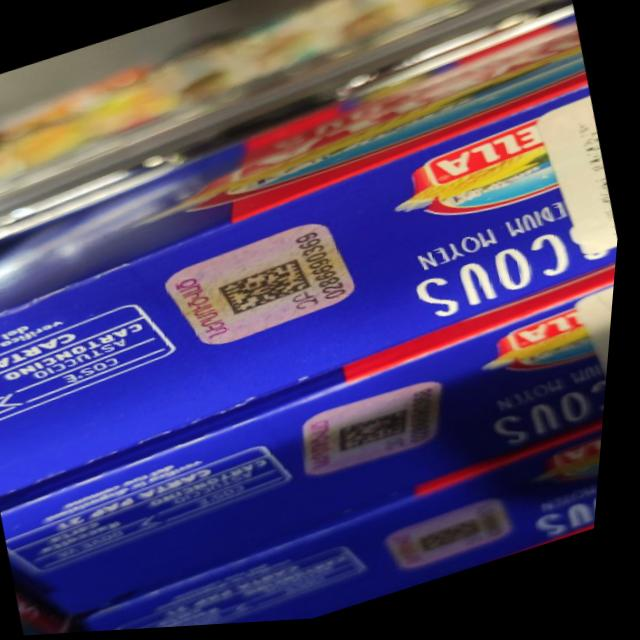datamatrix: (219, 258, 321, 323), (337, 412, 420, 460)
